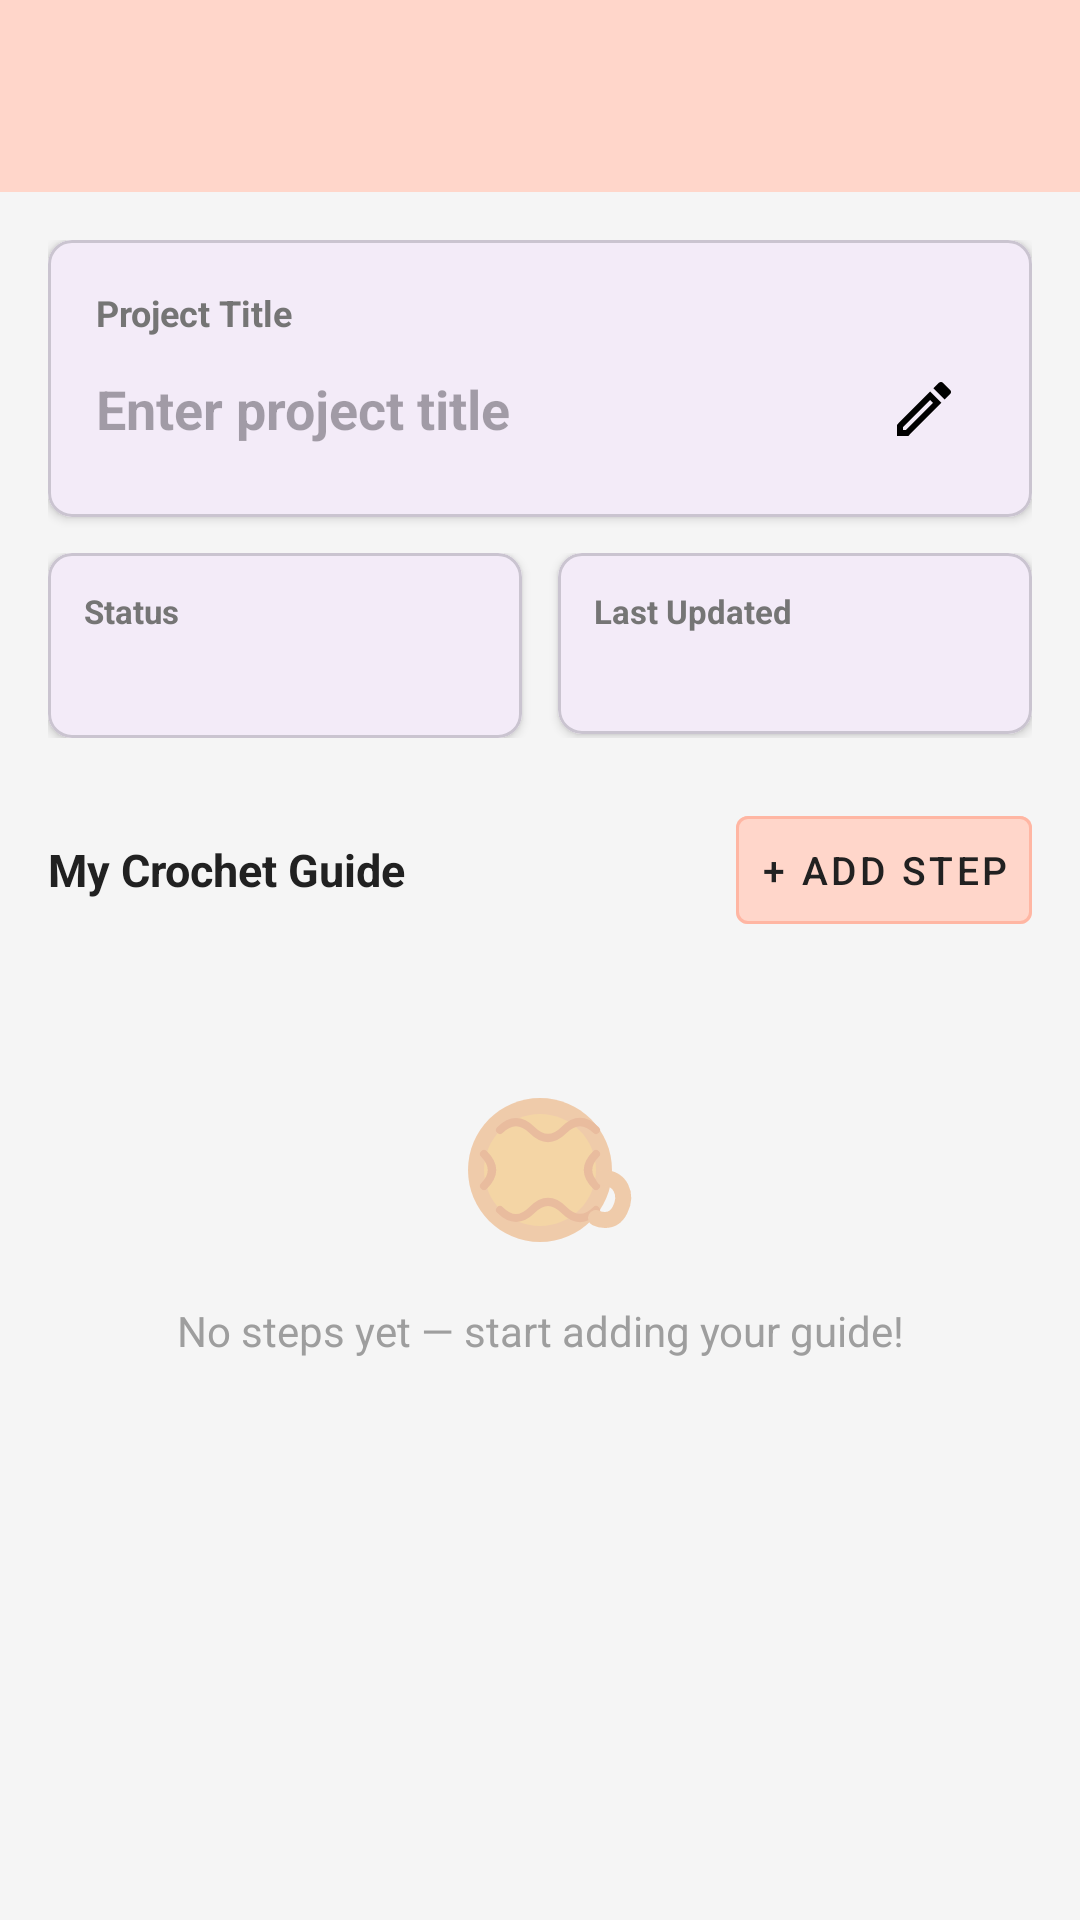

Screen size 1080 x 1920. Icon name, then its box in pixels as detection(x1, y1, x2, y2):
Edit title: detection(897, 382, 951, 436)
